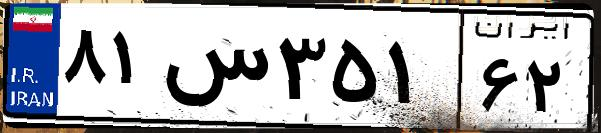1: (385, 28, 445, 110), (110, 28, 158, 98)
2: (525, 38, 570, 115)
3: (270, 28, 330, 110)
5: (330, 28, 385, 110)
6: (475, 38, 525, 113)
8: (57, 26, 110, 100)
س: (158, 20, 270, 120)
